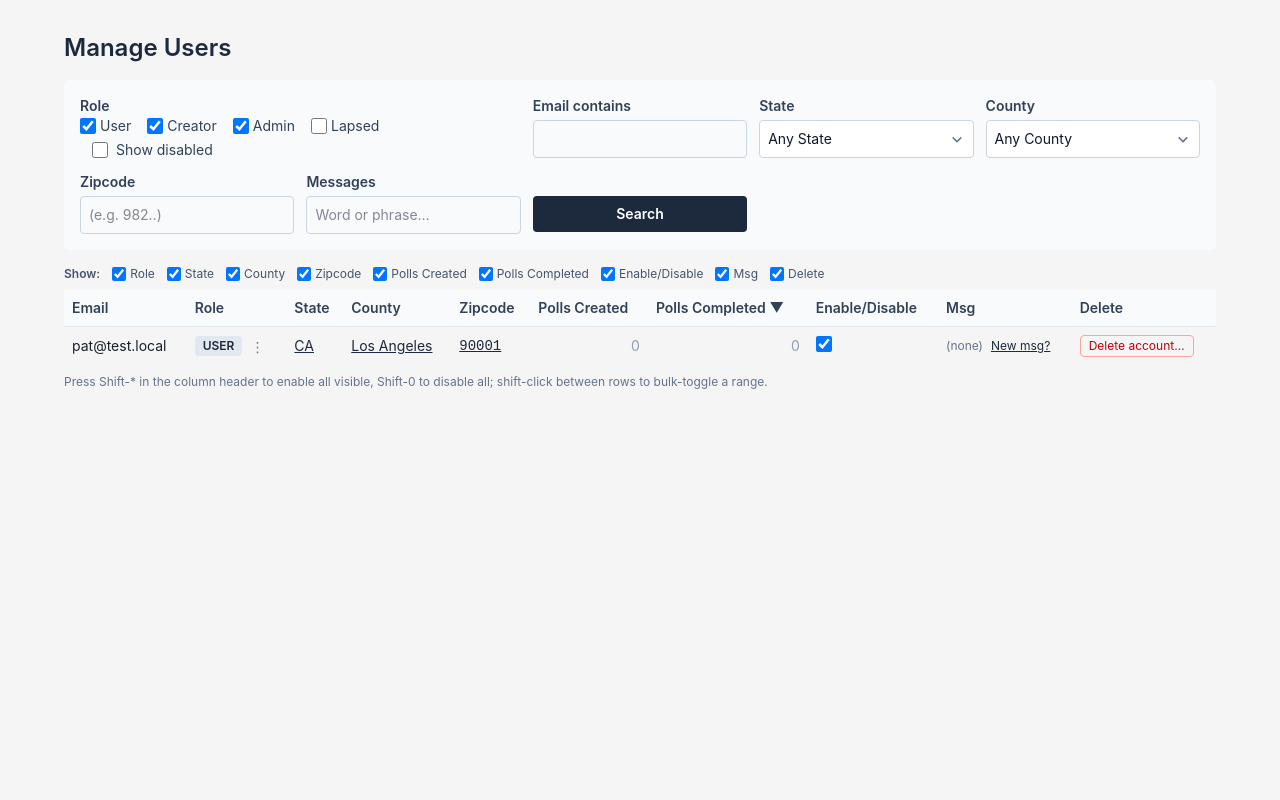
Test: ManageUsersView: deleting an account on request › the delete button stays off until the email is typed, then posts it and drops the row
Click the button named "Role actions": (257, 347) x1=246 y1=340 x2=268 y2=354
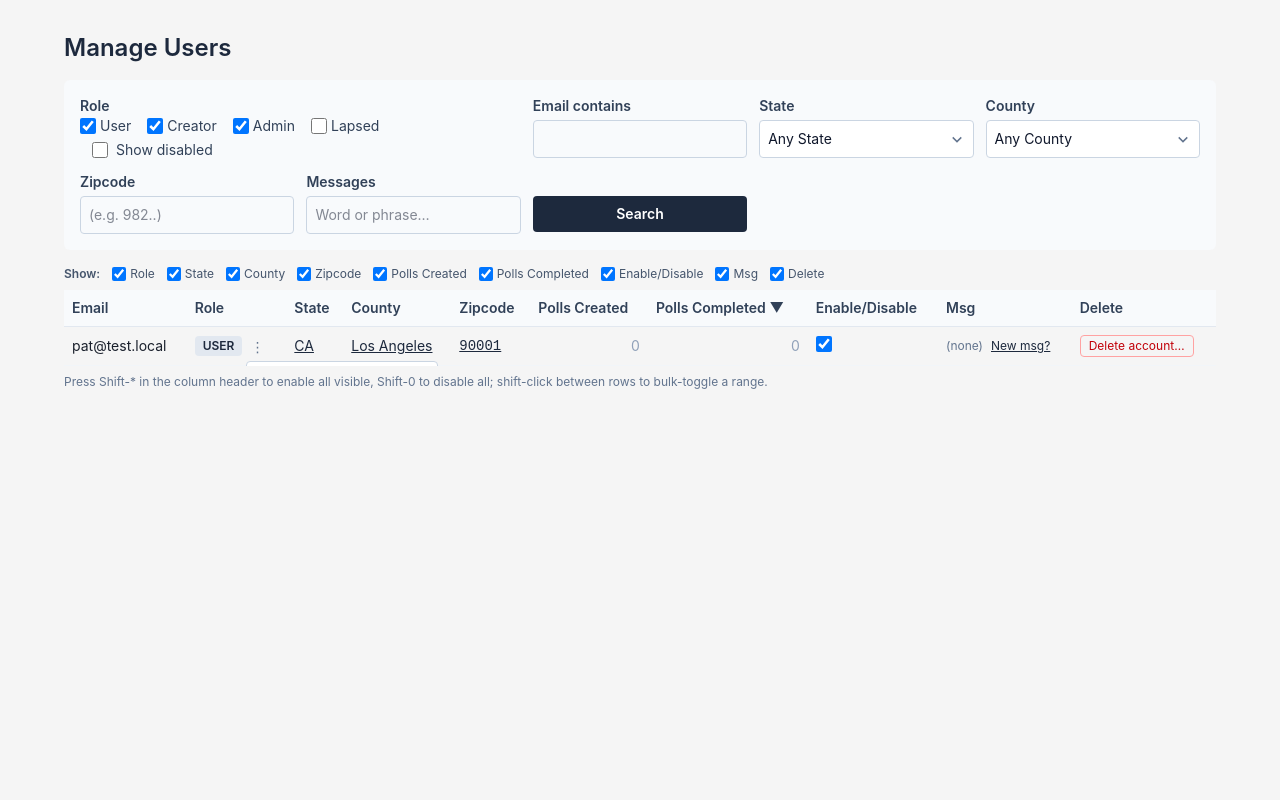
Click the button with test id "delete-account": (1137, 346) x1=1080 y1=335 x2=1194 y2=357
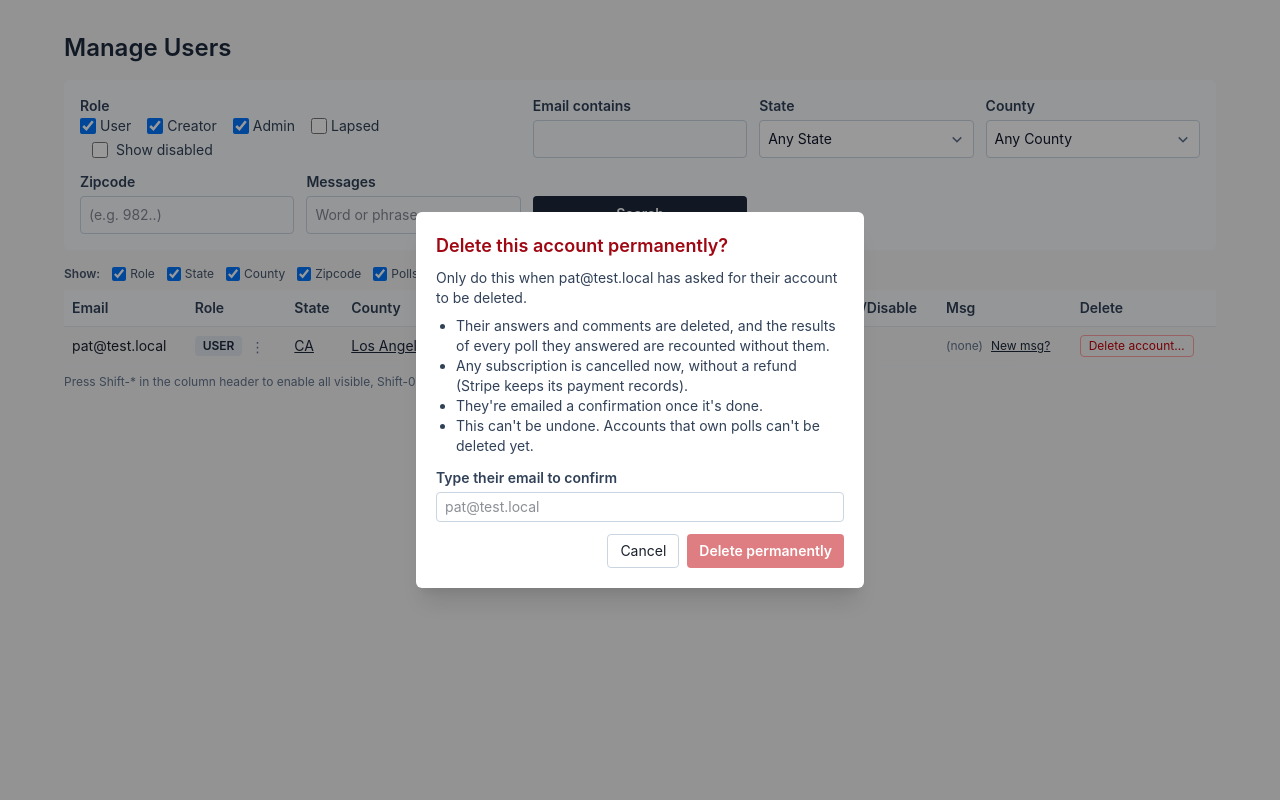
Expected: the dialog with test id "delete-modal" shows "pat@test.local", x1=436 y1=269 x2=837 y2=306
Expected: the button with test id "delete-yes" is disabled, x1=687 y1=534 x2=844 y2=568
In the field with test id "delete-confirm": (640, 507) x1=436 y1=492 x2=844 y2=522, type "someone@else"
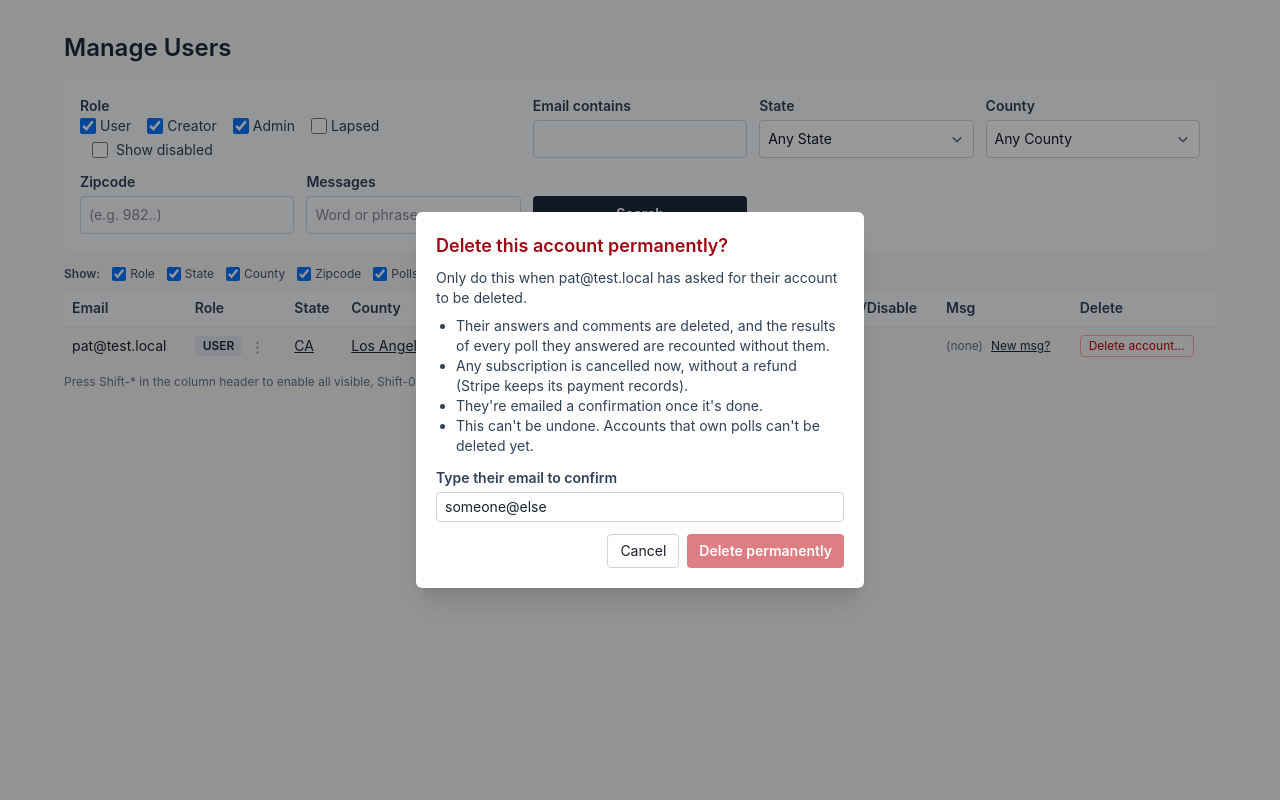
Expected: the button with test id "delete-yes" is disabled, x1=687 y1=534 x2=844 y2=568
Replace the text in the field with test id "delete-confirm" with "PAT@test.local": (640, 507) x1=436 y1=492 x2=844 y2=522
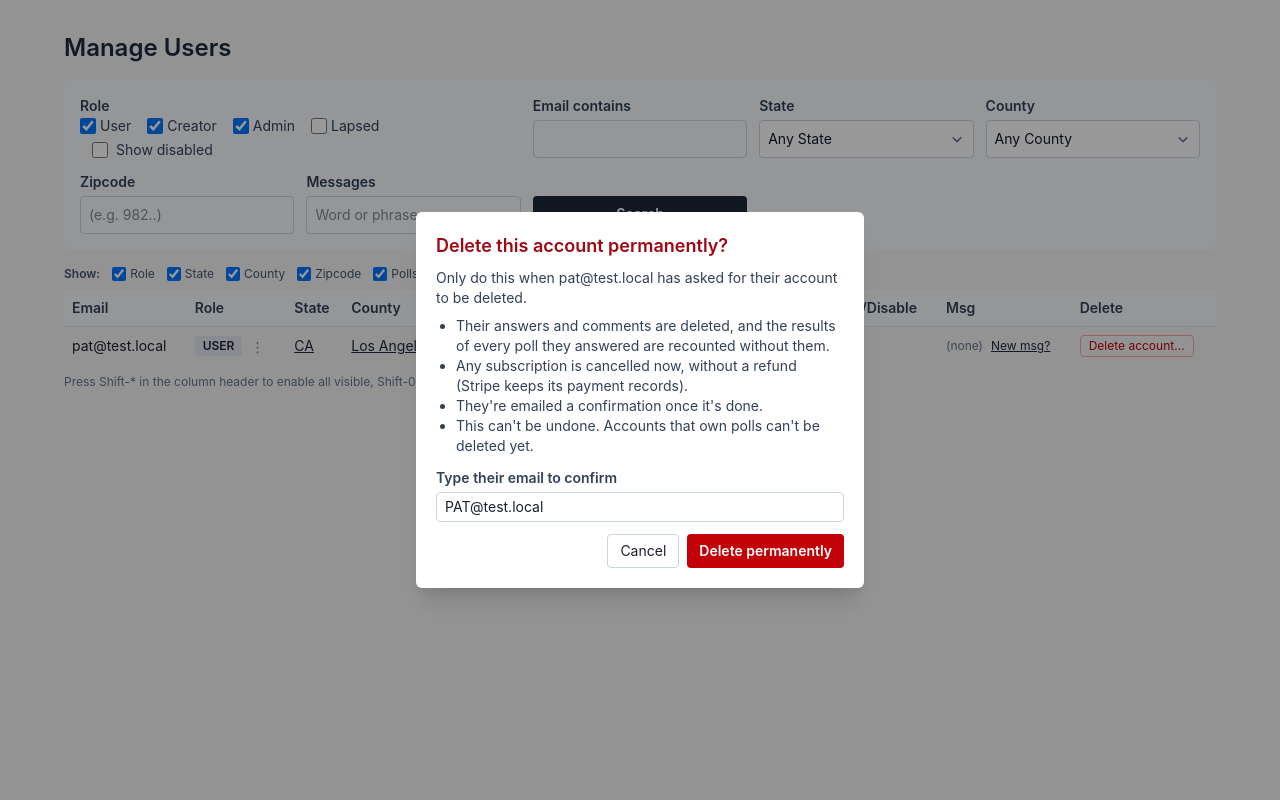
Expected: the button with test id "delete-yes" is enabled
Click the button with test id "delete-yes": (766, 551) x1=687 y1=534 x2=844 y2=568
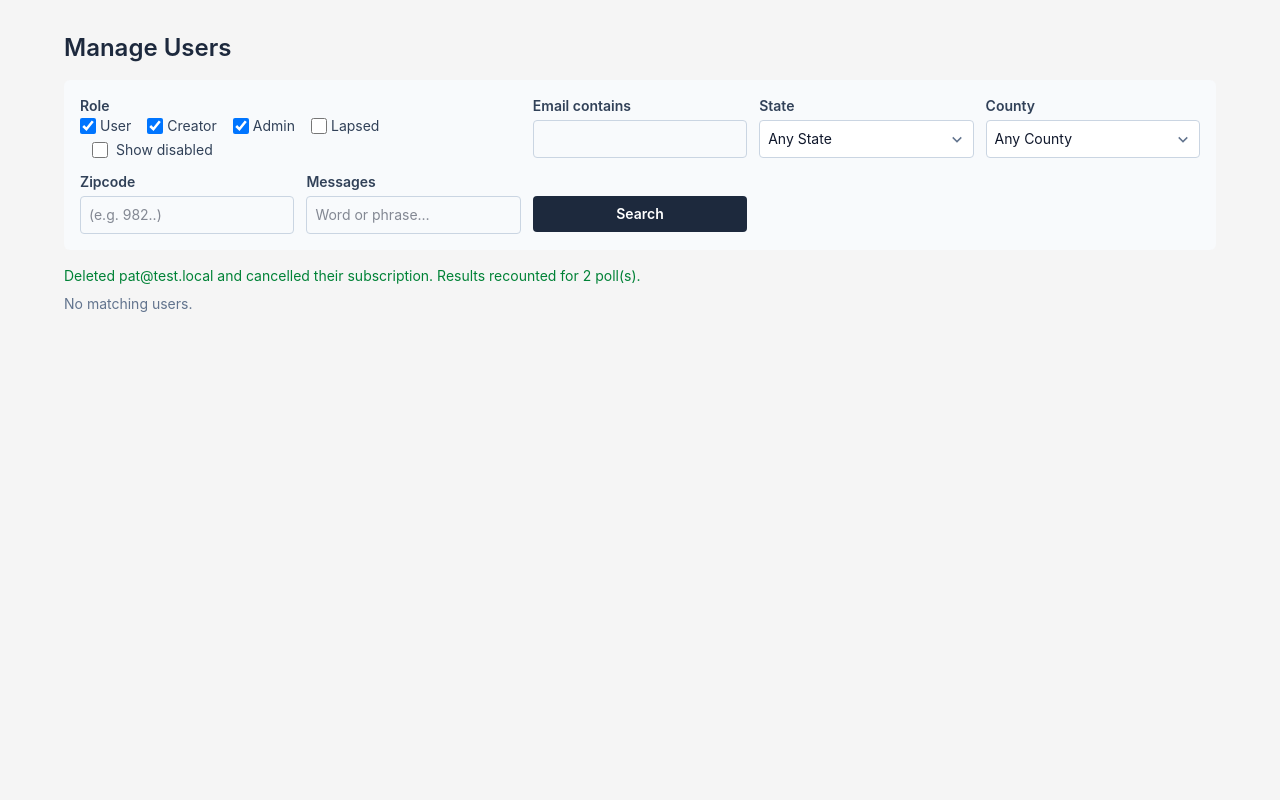
Expected: the text "Deleted pat@test.local and cancelled their subscription. Results recounted for 2 poll(s)." is shown, x1=64 y1=267 x2=641 y2=284
